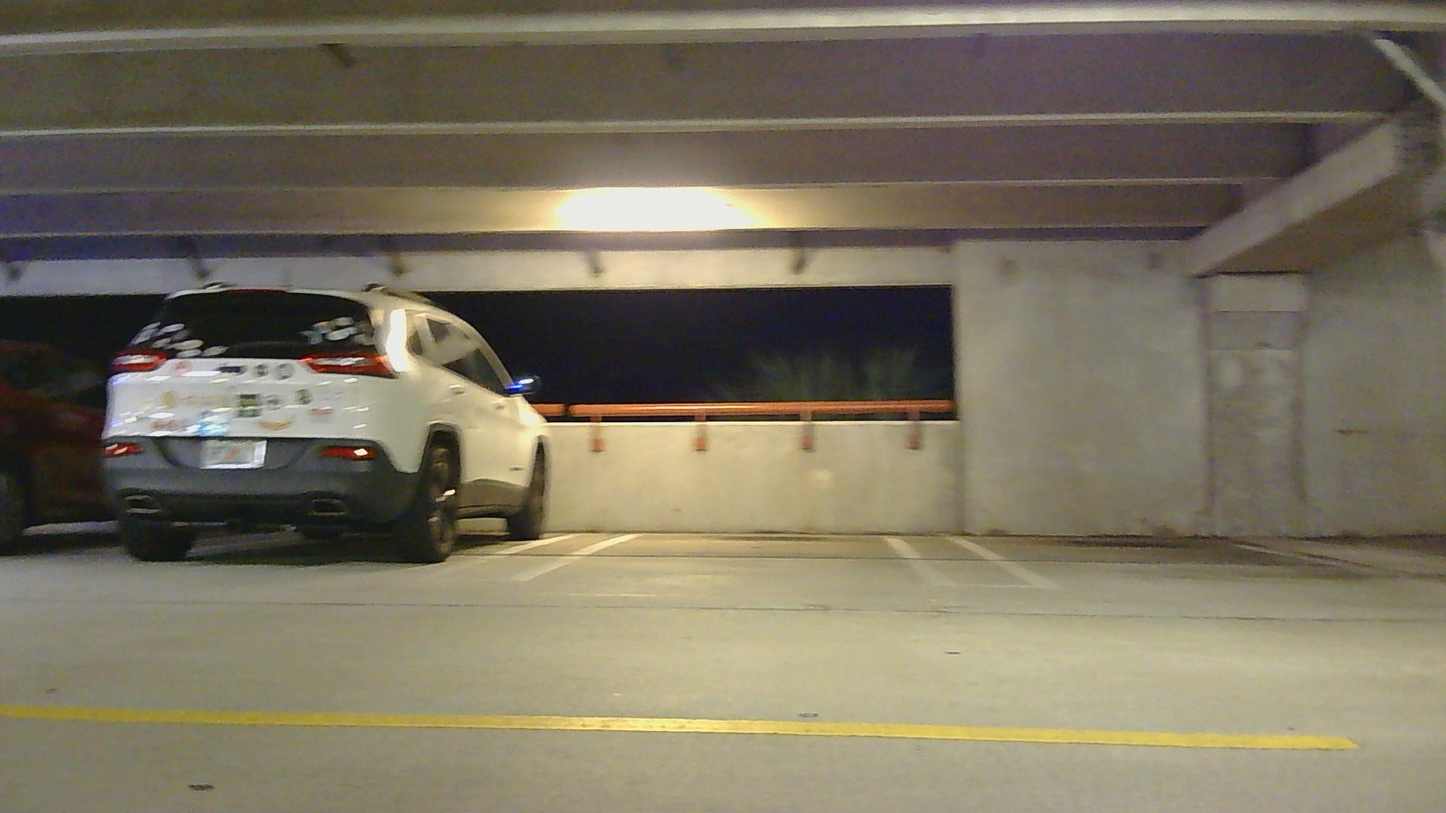empty_spot: (928, 469, 1446, 615), (494, 460, 973, 593)
occupied_spot: (99, 264, 571, 592)
